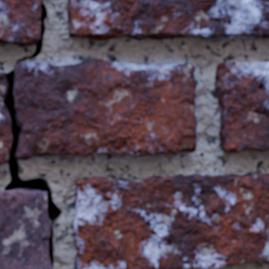brick: (74, 173, 268, 268), (68, 0, 268, 39), (215, 63, 268, 151), (0, 190, 51, 268), (0, 0, 41, 45)
broken_brick: (15, 57, 197, 160), (0, 104, 10, 164), (0, 71, 5, 99)
crack: (0, 2, 62, 266)
